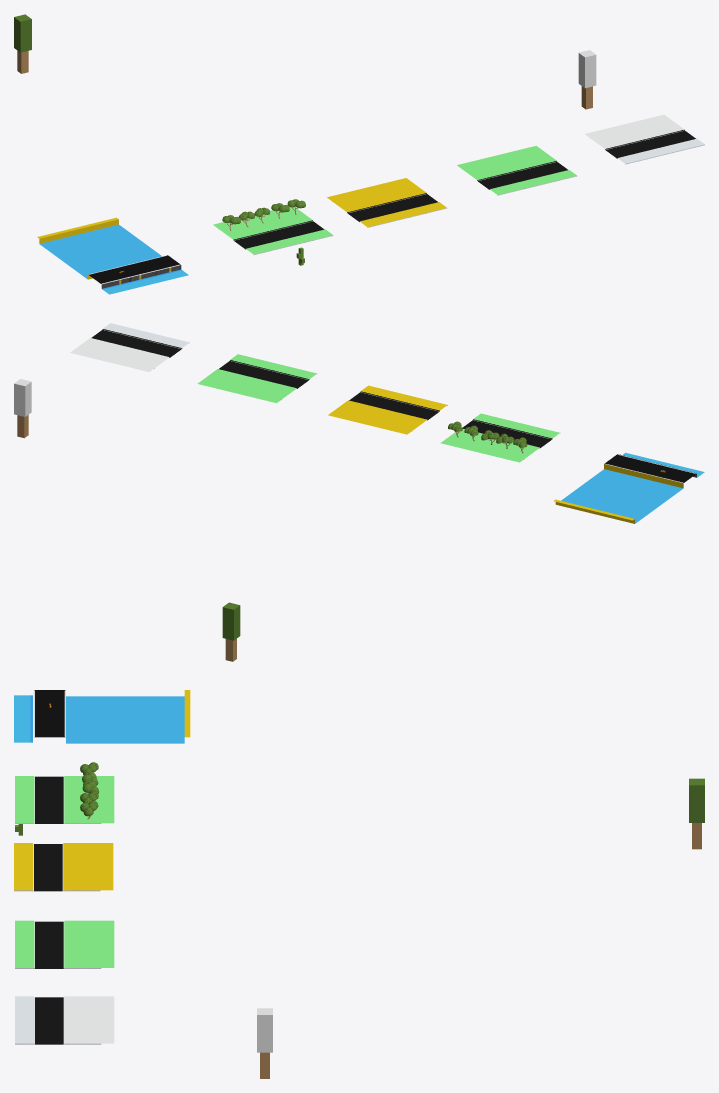
The model's file is road.glb.
3 views of the same model, one above another, from view 1: azimuth 30°, elevation 25°; view 2: azimuth 150°, elevation 25°; view 3: azimuth 270°, elevation 25° (orthographic). The views are drawn at different scales.
Visible parts, largest first — view 1: road.003, road.005, road.002, road.004, road.001, longGrass, longGrass.006, longGrass.004, longGrass.002, grass.002, SnowTree, Cube (+5 smaller); view 2: road.003, road.002, road.004, road.005, road.001, longGrass.002, longGrass.004, longGrass.006, Cube, SnowTree, longGrass, grass (+4 smaller); view 3: road.003, road.005, road.002, road.004, road.001, longGrass.002, longGrass.006, longGrass, longGrass.004, Cube, SnowTree, grass.004 (+5 smaller).
Part boxes in pixels (bbox=[...]): road.003: bbox=[37, 217, 180, 283]; road.005: bbox=[585, 114, 684, 148]; road.002: bbox=[327, 178, 426, 212]; road.004: bbox=[457, 145, 556, 179]; road.001: bbox=[213, 206, 312, 239]; longGrass: bbox=[218, 220, 333, 254]; longGrass.006: bbox=[589, 129, 704, 164]; longGrass.004: bbox=[462, 161, 576, 195]; longGrass.002: bbox=[332, 193, 447, 227]; grass.002: bbox=[101, 265, 188, 294]; SnowTree: bbox=[578, 50, 596, 109]; Cube: bbox=[14, 14, 31, 73]; road.003: bbox=[553, 454, 696, 523]; road.002: bbox=[328, 400, 427, 434]; road.004: bbox=[197, 369, 296, 403]; road.005: bbox=[70, 338, 169, 371]; road.001: bbox=[440, 429, 539, 462]; longGrass.002: bbox=[349, 391, 447, 431]; longGrass.004: bbox=[219, 360, 309, 399]; longGrass.006: bbox=[91, 329, 182, 368]; Cube: bbox=[222, 602, 240, 661]; SnowTree: bbox=[14, 379, 31, 438]; longGrass: bbox=[462, 419, 560, 459]; grass: bbox=[473, 413, 559, 438]; road.003: bbox=[33, 690, 190, 743]; road.005: bbox=[64, 996, 114, 1043]; road.002: bbox=[63, 843, 113, 890]; road.004: bbox=[64, 920, 114, 967]; road.001: bbox=[64, 776, 114, 823]; longGrass.002: bbox=[14, 844, 100, 891]; longGrass.006: bbox=[15, 997, 101, 1044]; longGrass: bbox=[15, 776, 101, 823]; longGrass.004: bbox=[15, 921, 101, 968]; Cube: bbox=[689, 778, 704, 849]; SnowTree: bbox=[257, 1008, 272, 1078]; grass.004: bbox=[15, 996, 34, 1043].
Bounding box in the file's own units: 389 × 33.39 × 321.
Materials: 3 (3 with a texture image).
